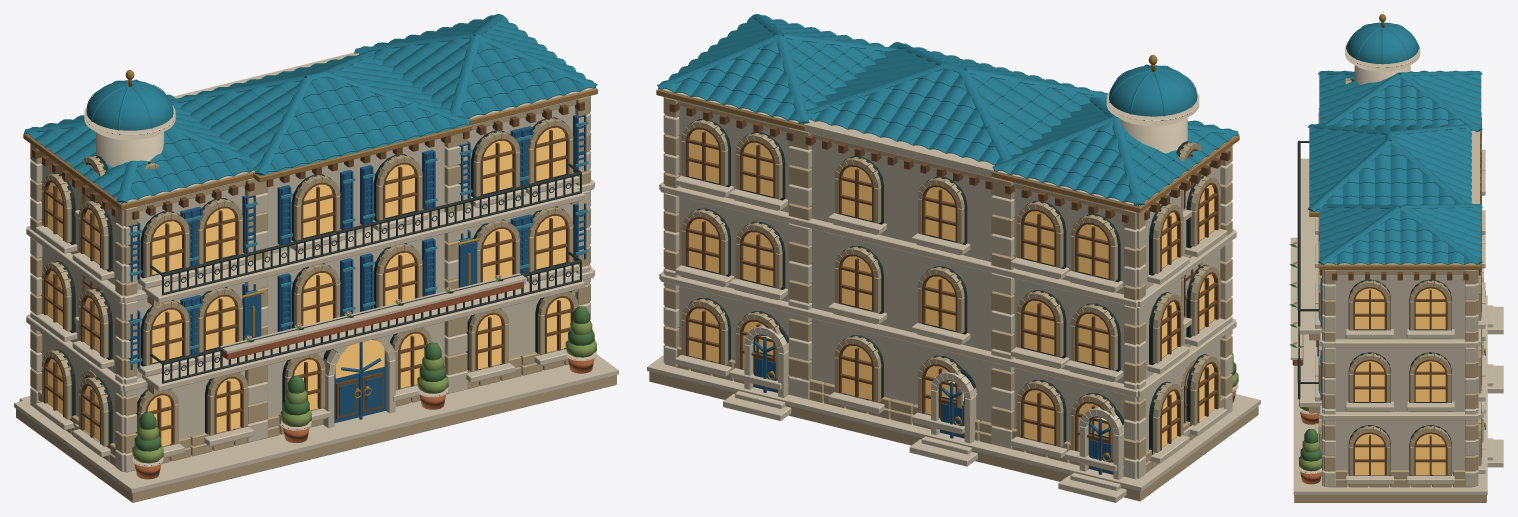
3 renders of one model, left to right at view 1: azimuth 30°, elevation 25°; view 2: azimuth 150°, elevation 25°; view 3: azimuth 270°, elevation 25°, orthographic. The views are drawn at different scales.
Visible parts, largest first — view 1: harbor_skyscraper_2_geometry, harbor_skyscraper_2_geometry ceramic; view 2: harbor_skyscraper_2_geometry, harbor_skyscraper_2_geometry ceramic; view 3: harbor_skyscraper_2_geometry, harbor_skyscraper_2_geometry ceramic.
Part boxes in pixels (x1=…): harbor_skyscraper_2_geometry: x1=14, y1=52, x2=618, y2=502; harbor_skyscraper_2_geometry ceramic: x1=24, y1=14, x2=597, y2=363; harbor_skyscraper_2_geometry: x1=647, y1=55, x2=1260, y2=502; harbor_skyscraper_2_geometry ceramic: x1=657, y1=14, x2=1238, y2=205; harbor_skyscraper_2_geometry: x1=1289, y1=14, x2=1503, y2=502; harbor_skyscraper_2_geometry ceramic: x1=1307, y1=22, x2=1482, y2=395.
Bounding box in the file's own units: 1.56 × 1.17 × 0.7238.
